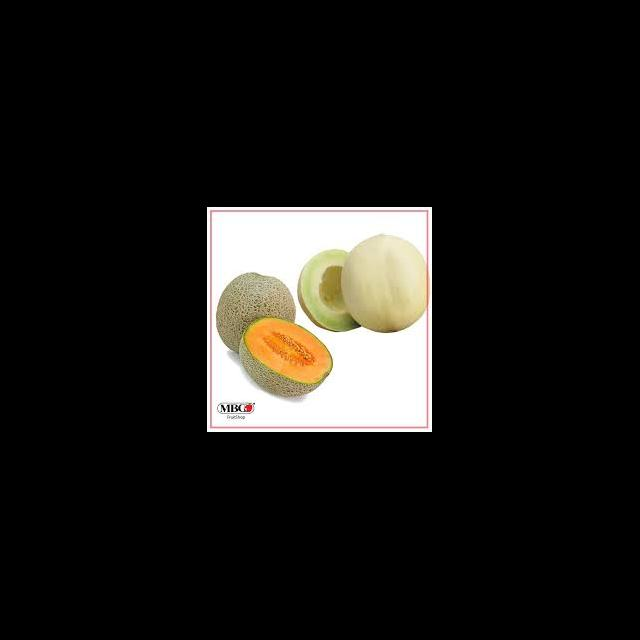Hami Melon: (240, 318, 334, 398), (217, 272, 296, 354)
